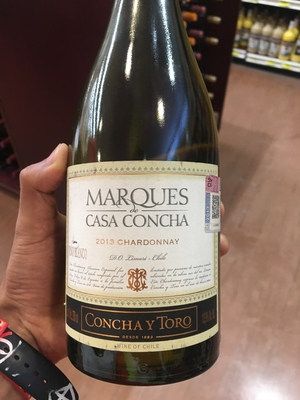marques de casa concha chardonnay: (45, 22, 225, 367)
